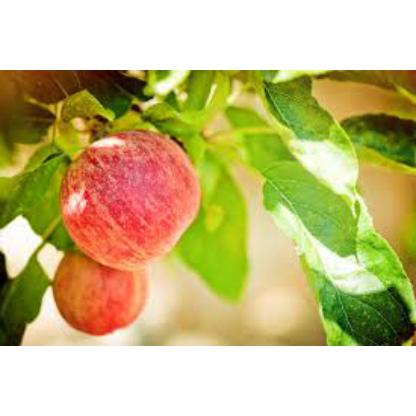apple: (59, 131, 198, 256), (44, 246, 150, 338)
